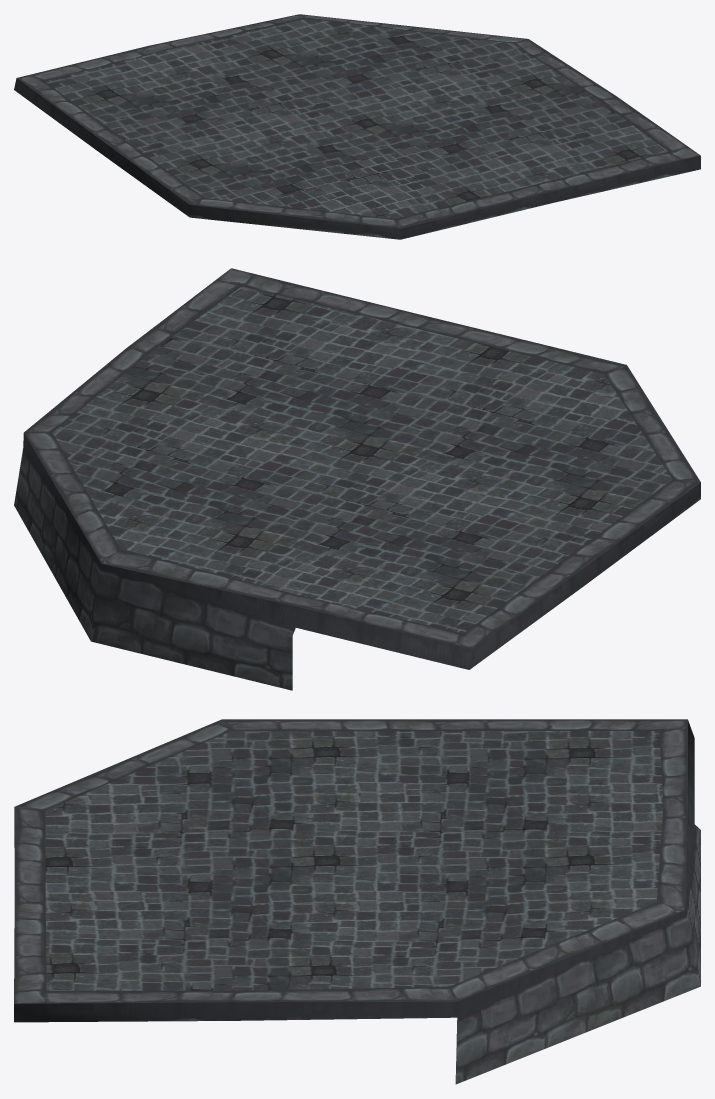
The model's file is menu_terrain_towncenterstone02.fbx.
3 views of the same model, one above another, from view 1: azimuth 30°, elevation 25°; view 2: azimuth 150°, elevation 25°; view 3: azimuth 270°, elevation 25° (orthographic). The views are drawn at different scales.
Parts seen in each view (by area): view 1: menu_terrain_towncenterstone02-0; view 2: menu_terrain_towncenterstone02-0; view 3: menu_terrain_towncenterstone02-0.
Boxes of the visible parts, bbox=[...] form: menu_terrain_towncenterstone02-0: bbox=[14, 14, 700, 239]; menu_terrain_towncenterstone02-0: bbox=[14, 268, 700, 690]; menu_terrain_towncenterstone02-0: bbox=[14, 719, 700, 1084].
Bounding box in the file's own units: 12.32 × 1.62 × 12.56.
